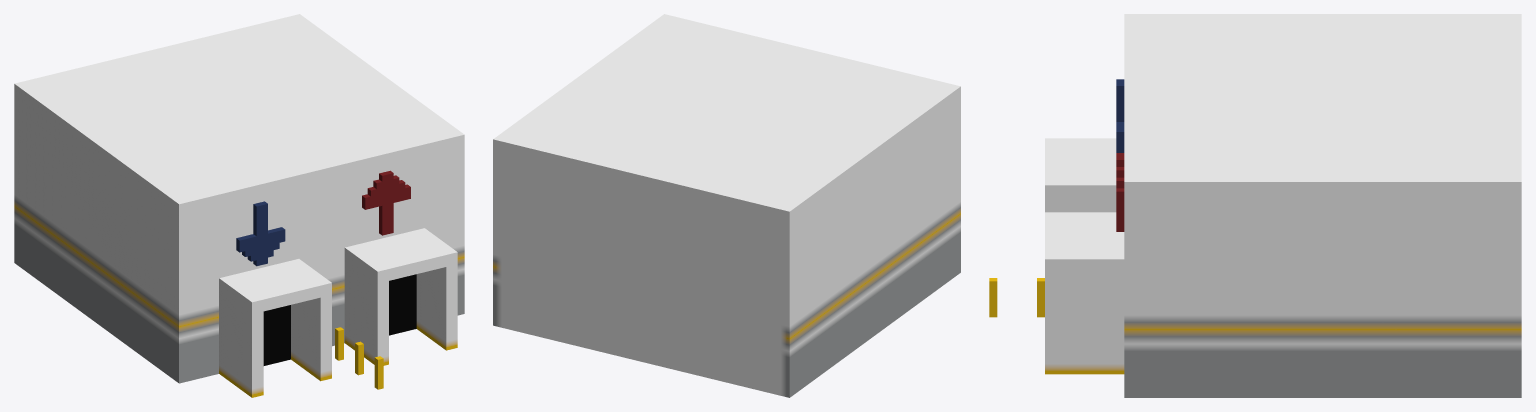
File: Busstop.dae
The picture shows the model from 3 angles, left to right: view 1: azimuth 30°, elevation 25°; view 2: azimuth 150°, elevation 25°; view 3: azimuth 270°, elevation 25°; orthographic projection. The views are drawn at different scales.
Visible parts, largest first — view 1: Busstop; view 2: Busstop; view 3: Busstop.
Part boxes in pixels (x1=…): Busstop: x1=14, y1=14, x2=464, y2=397; Busstop: x1=493, y1=14, x2=960, y2=397; Busstop: x1=989, y1=14, x2=1521, y2=397.
Size of the model in its own units: 50 by 30 by 67.
1 material, 1 textured.
